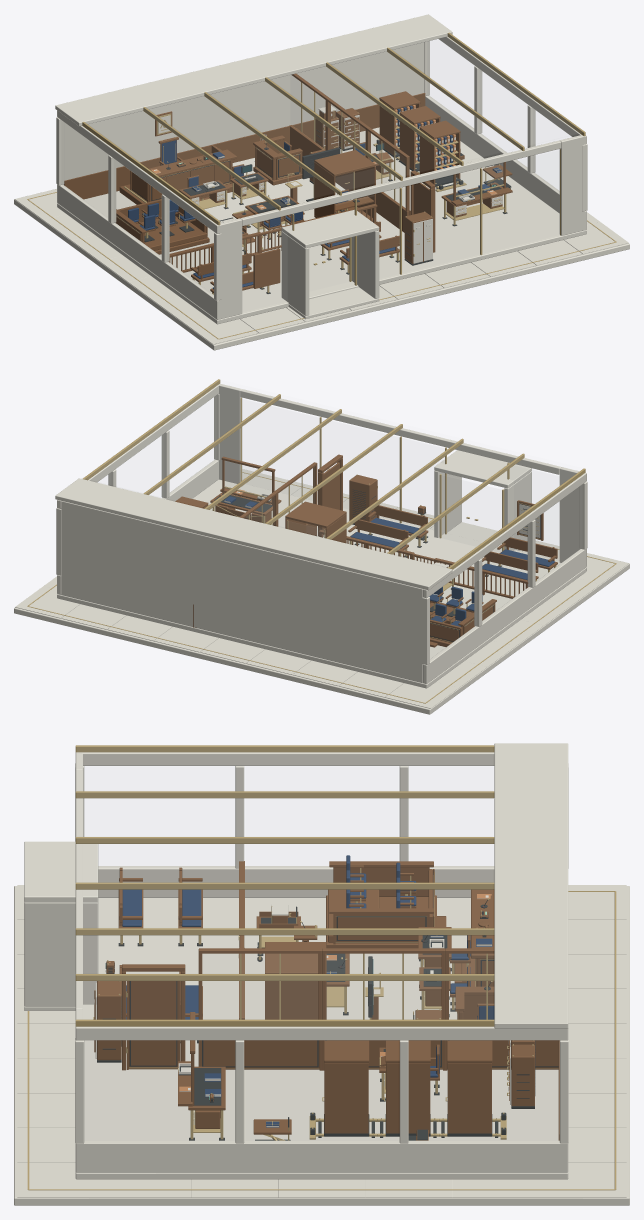
File: city-courthouse-and-records-office-city--5a4acb9c-starter-scene__31002.glb
3 views of the same model, one above another, from view 1: azimuth 30°, elevation 25°; view 2: azimuth 150°, elevation 25°; view 3: azimuth 270°, elevation 25° (orthographic). The views are drawn at different scales.
Visible parts, largest first — view 1: 001-city-courthouse-and-records-office-roofed-courthouse-hal (×4), 000-city-courthouse-and-records-office-civic-floor-base/0, 002-city-courthouse-and-records-office-public-vestibule/0, 007-city-courthouse-and-records-office-judge-bench/0, 048-city-courthouse-and-records-office-interpreter-booth/0, 028-city-courthouse-and-records-office-jury-box/0, 024-city-courthouse-and-records-office-witness-stand/0, 064-city-courthouse-and-records-office-records-service-count (×2), 005-city-courthouse-and-records-office-courtroom-partition-b, 076-city-courthouse-and-records-office-mobile-archive-shelf/, 075-city-courthouse-and-records-office-mobile-archive-shelf/, 074-city-courthouse-and-records-office-mobile-archive-shelf/ (+9 smaller); view 2: 001-city-courthouse-and-records-office-roofed-courthouse-hal (×3), 000-city-courthouse-and-records-office-civic-floor-base/0, 002-city-courthouse-and-records-office-public-vestibule/0, 048-city-courthouse-and-records-office-interpreter-booth/0, 028-city-courthouse-and-records-office-jury-box/0, 064-city-courthouse-and-records-office-records-service-count, 006-city-courthouse-and-records-office-courtroom-door/0, 063-city-courthouse-and-records-office-coat-and-bag-locker/1, 000-city-courthouse-and-records-office-civic-floor-base/1, 060-city-courthouse-and-records-office-public-gallery-bench/, 058-city-courthouse-and-records-office-public-gallery-bench/, 059-city-courthouse-and-records-office-public-gallery-bench/ (+3 smaller); view 3: 001-city-courthouse-and-records-office-roofed-courthouse-hal (×3), 000-city-courthouse-and-records-office-civic-floor-base/0, 002-city-courthouse-and-records-office-public-vestibule/0, 028-city-courthouse-and-records-office-jury-box/0, 006-city-courthouse-and-records-office-courtroom-door/0, 005-city-courthouse-and-records-office-courtroom-partition-b, 074-city-courthouse-and-records-office-mobile-archive-shelf/, 076-city-courthouse-and-records-office-mobile-archive-shelf/, 048-city-courthouse-and-records-office-interpreter-booth/0, 075-city-courthouse-and-records-office-mobile-archive-shelf/, 000-city-courthouse-and-records-office-civic-floor-base/1, 064-city-courthouse-and-records-office-records-service-count (×2) (+8 smaller).
Part boxes in pixels (<box>): 001-city-courthouse-and-records-office-roofed-courthouse-hal (×4): <box>55,14,587,324</box>; 000-city-courthouse-and-records-office-civic-floor-base/0: <box>14,189,629,350</box>; 002-city-courthouse-and-records-office-public-vestibule/0: <box>281,209,379,319</box>; 007-city-courthouse-and-records-office-judge-bench/0: <box>119,144,236,204</box>; 048-city-courthouse-and-records-office-interpreter-booth/0: <box>314,150,375,221</box>; 028-city-courthouse-and-records-office-jury-box/0: <box>115,199,209,254</box>; 024-city-courthouse-and-records-office-witness-stand/0: <box>253,135,302,185</box>; 064-city-courthouse-and-records-office-records-service-count (×2): <box>441,162,512,224</box>; 005-city-courthouse-and-records-office-courtroom-partition-b: <box>366,127,410,232</box>; 076-city-courthouse-and-records-office-mobile-archive-shelf/: <box>419,120,460,184</box>; 075-city-courthouse-and-records-office-mobile-archive-shelf/: <box>399,106,440,170</box>; 074-city-courthouse-and-records-office-mobile-archive-shelf/: <box>379,91,420,155</box>; 001-city-courthouse-and-records-office-roofed-courthouse-hal (×3): <box>55,379,587,688</box>; 000-city-courthouse-and-records-office-civic-floor-base/0: <box>14,469,629,714</box>; 002-city-courthouse-and-records-office-public-vestibule/0: <box>434,450,531,550</box>; 048-city-courthouse-and-records-office-interpreter-booth/0: <box>285,501,346,543</box>; 028-city-courthouse-and-records-office-jury-box/0: <box>430,599,496,647</box>; 064-city-courthouse-and-records-office-records-service-count: <box>210,456,281,522</box>; 006-city-courthouse-and-records-office-courtroom-door/0: <box>318,454,342,536</box>; 063-city-courthouse-and-records-office-coat-and-bag-locker/1: <box>349,475,377,523</box>; 000-city-courthouse-and-records-office-civic-floor-base/1: <box>27,472,616,703</box>; 060-city-courthouse-and-records-office-public-gallery-bench/: <box>367,505,428,538</box>; 058-city-courthouse-and-records-office-public-gallery-bench/: <box>348,519,408,549</box>; 059-city-courthouse-and-records-office-public-gallery-bench/: <box>497,537,557,569</box>; 001-city-courthouse-and-records-office-roofed-courthouse-hal (×3): <box>75,743,568,1179</box>; 000-city-courthouse-and-records-office-civic-floor-base/0: <box>14,885,629,1205</box>; 002-city-courthouse-and-records-office-public-vestibule/0: <box>24,841,98,1010</box>; 028-city-courthouse-and-records-office-jury-box/0: <box>326,861,446,948</box>; 006-city-courthouse-and-records-office-courtroom-door/0: <box>122,964,185,1070</box>; 005-city-courthouse-and-records-office-courtroom-partition-b: <box>198,948,321,1070</box>; 074-city-courthouse-and-records-office-mobile-archive-shelf/: <box>447,1040,492,1133</box>; 076-city-courthouse-and-records-office-mobile-archive-shelf/: <box>324,1040,369,1133</box>; 048-city-courthouse-and-records-office-interpreter-booth/0: <box>265,942,326,1019</box>; 075-city-courthouse-and-records-office-mobile-archive-shelf/: <box>385,1040,430,1133</box>; 000-city-courthouse-and-records-office-civic-floor-base/1: <box>27,891,616,1190</box>; 064-city-courthouse-and-records-office-records-service-count (×2): <box>178,1012,225,1140</box>.
Bounding box in the file's own units: 18 × 4.5 × 15.
